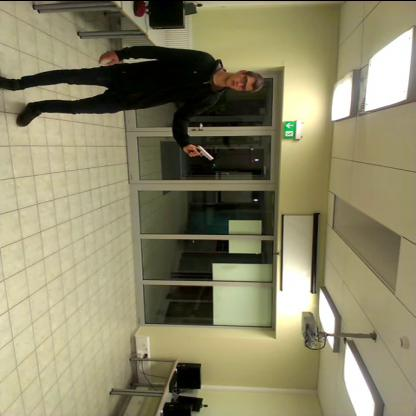Pistol: (176, 143, 216, 161)
